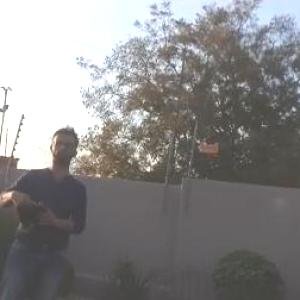follow: (0, 118, 92, 299)
